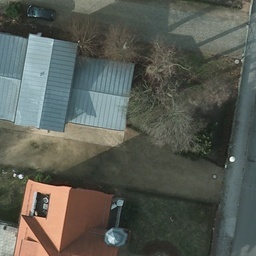car: (25, 5, 57, 22)
